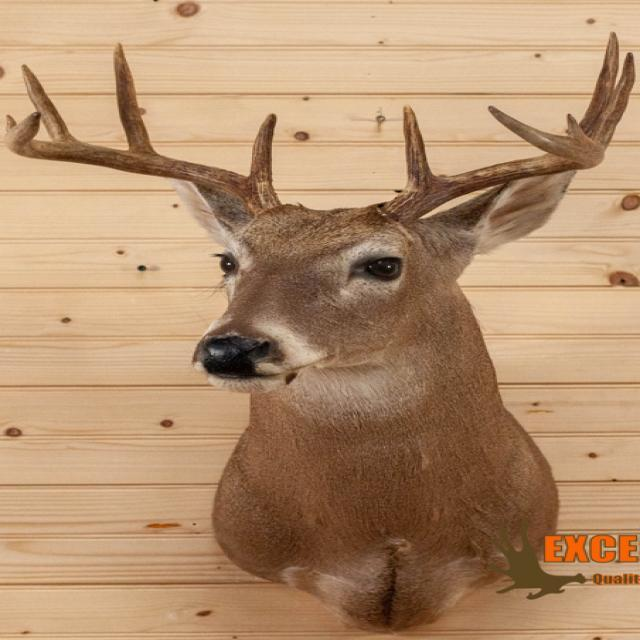E1: (567, 113, 594, 146)
L-F: (376, 105, 605, 225)
L-G1: (403, 104, 437, 185)
R-F: (3, 111, 281, 219)
R-G1: (248, 112, 277, 185)
R-G2: (113, 42, 157, 154)
R-G3: (21, 63, 79, 142)
